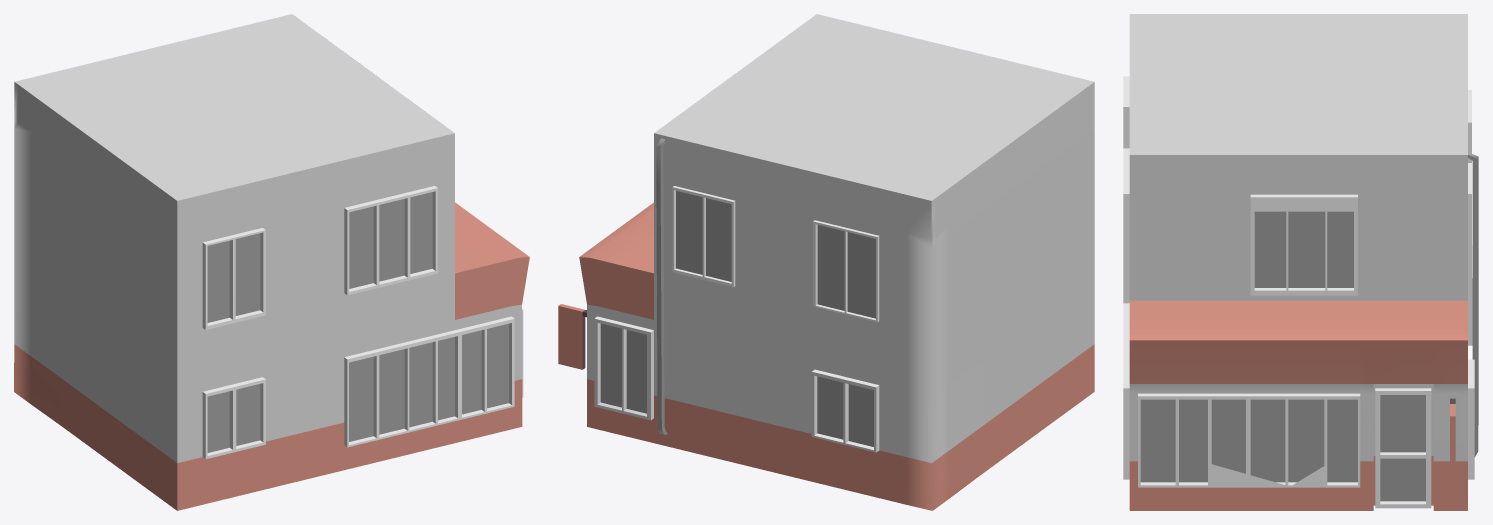
Rendered from supermarket_maybefinale.fbx.
3 renders of one model, left to right at view 1: azimuth 30°, elevation 25°; view 2: azimuth 150°, elevation 25°; view 3: azimuth 270°, elevation 25°, orthographic. The views are drawn at different scales.
Parts seen in each view (by area): view 1: pCube1; view 2: pCube1; view 3: pCube1.
Boxes of the visible parts, <box> form: pCube1: <box>14,14,529,510</box>; pCube1: <box>558,14,1094,510</box>; pCube1: <box>1123,14,1478,510</box>.
Size of the model in its own units: 17.42 by 13.58 by 13.58.
